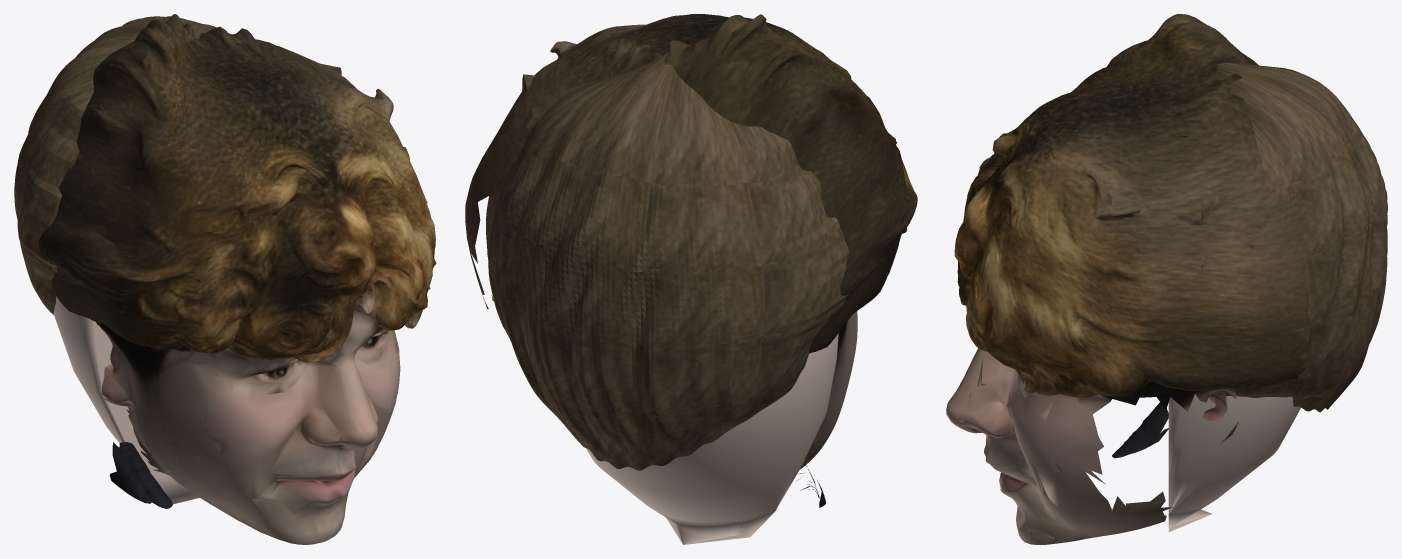
Rendered from ariel-head.glb.
3 views of the same model, side by side, from view 1: azimuth 30°, elevation 25°; view 2: azimuth 150°, elevation 25°; view 3: azimuth 270°, elevation 25° (orthographic). The views are drawn at different scales.
Visible parts, largest first — view 1: ArielPreservedFaceAndFrontalHair, TexturedFlowingPosteriorHairAndNape, ClosedAnatomicalNape; view 2: TexturedFlowingPosteriorHairAndNape, ArielPreservedFaceAndFrontalHair, ClosedAnatomicalNape; view 3: ArielPreservedFaceAndFrontalHair, TexturedFlowingPosteriorHairAndNape, ClosedAnatomicalNape.
Part boxes in pixels (bbox=[...]): ArielPreservedFaceAndFrontalHair: bbox=[38, 14, 436, 544]; TexturedFlowingPosteriorHairAndNape: bbox=[14, 16, 341, 314]; ClosedAnatomicalNape: bbox=[53, 296, 199, 504]; TexturedFlowingPosteriorHairAndNape: bbox=[486, 52, 849, 470]; ArielPreservedFaceAndFrontalHair: bbox=[465, 14, 917, 507]; ClosedAnatomicalNape: bbox=[586, 333, 838, 544]; ArielPreservedFaceAndFrontalHair: bbox=[946, 14, 1312, 544]; TexturedFlowingPosteriorHairAndNape: bbox=[1201, 62, 1387, 412]; ClosedAnatomicalNape: bbox=[1168, 394, 1300, 532].
Bounding box in the file's own units: 0.3393 × 0.4554 × 0.3817.
Materials: 2 (1 with a texture image).
